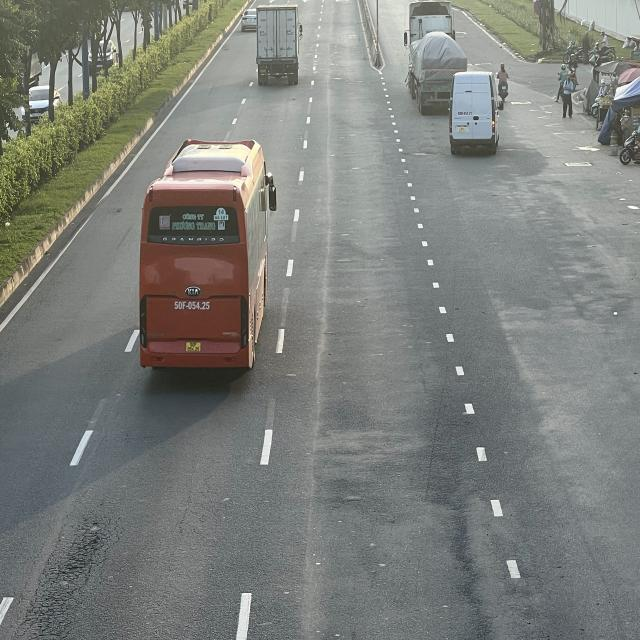car: (241, 9, 258, 33)
coach: (136, 135, 272, 381)
container: (404, 0, 467, 109)
truck: (256, 3, 303, 86)
van: (447, 71, 503, 157)
